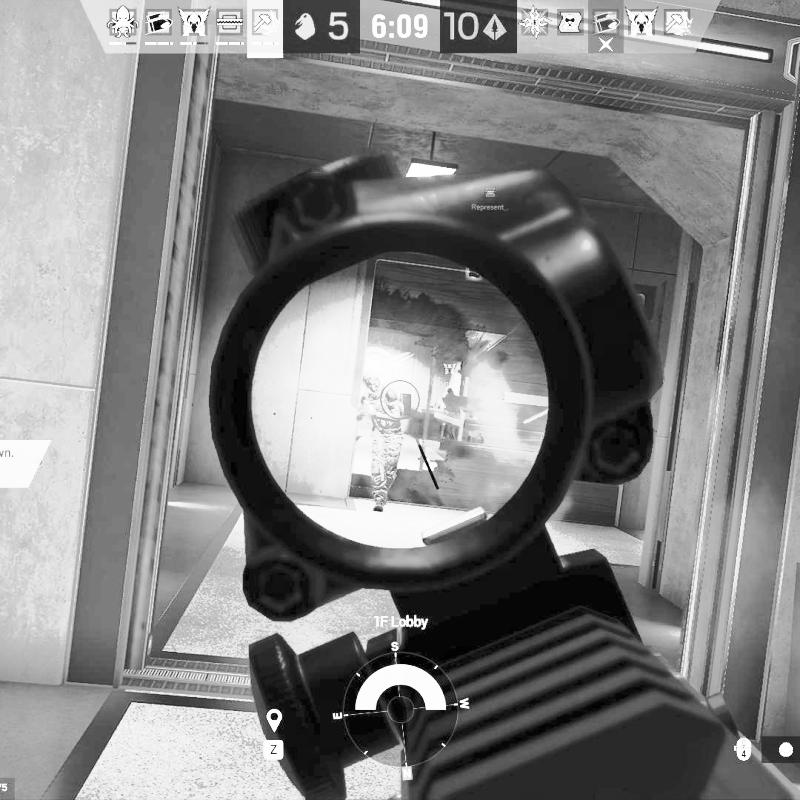Character: (355, 370, 405, 514), (441, 385, 459, 442)
Head: (364, 372, 382, 394), (447, 387, 454, 395)
